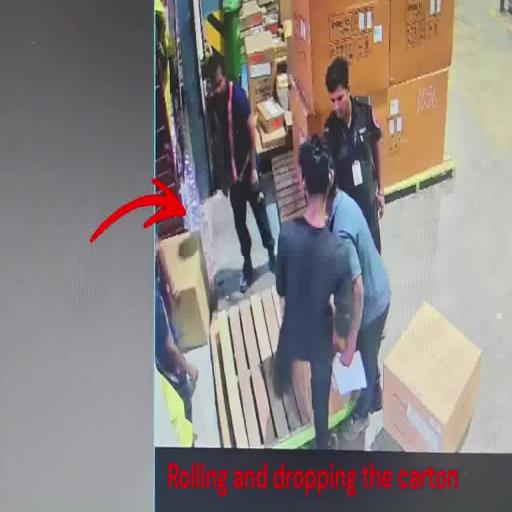carton: (380, 303, 482, 454), (280, 0, 390, 117), (379, 68, 449, 198), (158, 231, 211, 354), (290, 353, 369, 434), (390, 0, 455, 92), (288, 76, 326, 196), (248, 61, 276, 103), (255, 99, 284, 137), (243, 31, 274, 65), (248, 129, 286, 155), (239, 1, 262, 37)
pallet: (208, 286, 327, 450), (258, 148, 307, 224)
person: (271, 137, 356, 450), (202, 51, 276, 290), (327, 186, 391, 437), (322, 55, 385, 256), (154, 247, 199, 447)
